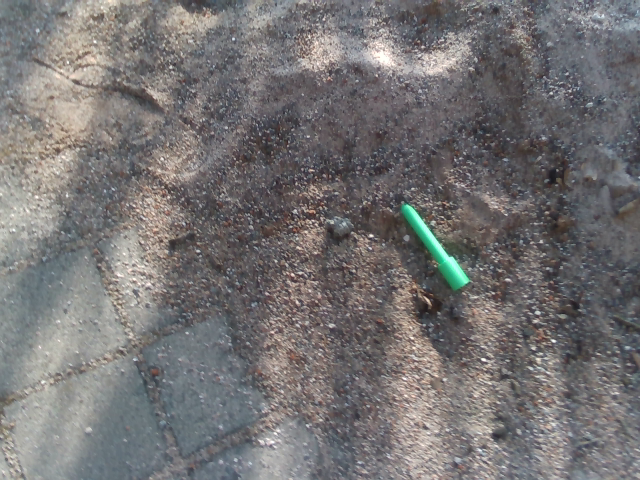Probe: (394, 197, 474, 295)
